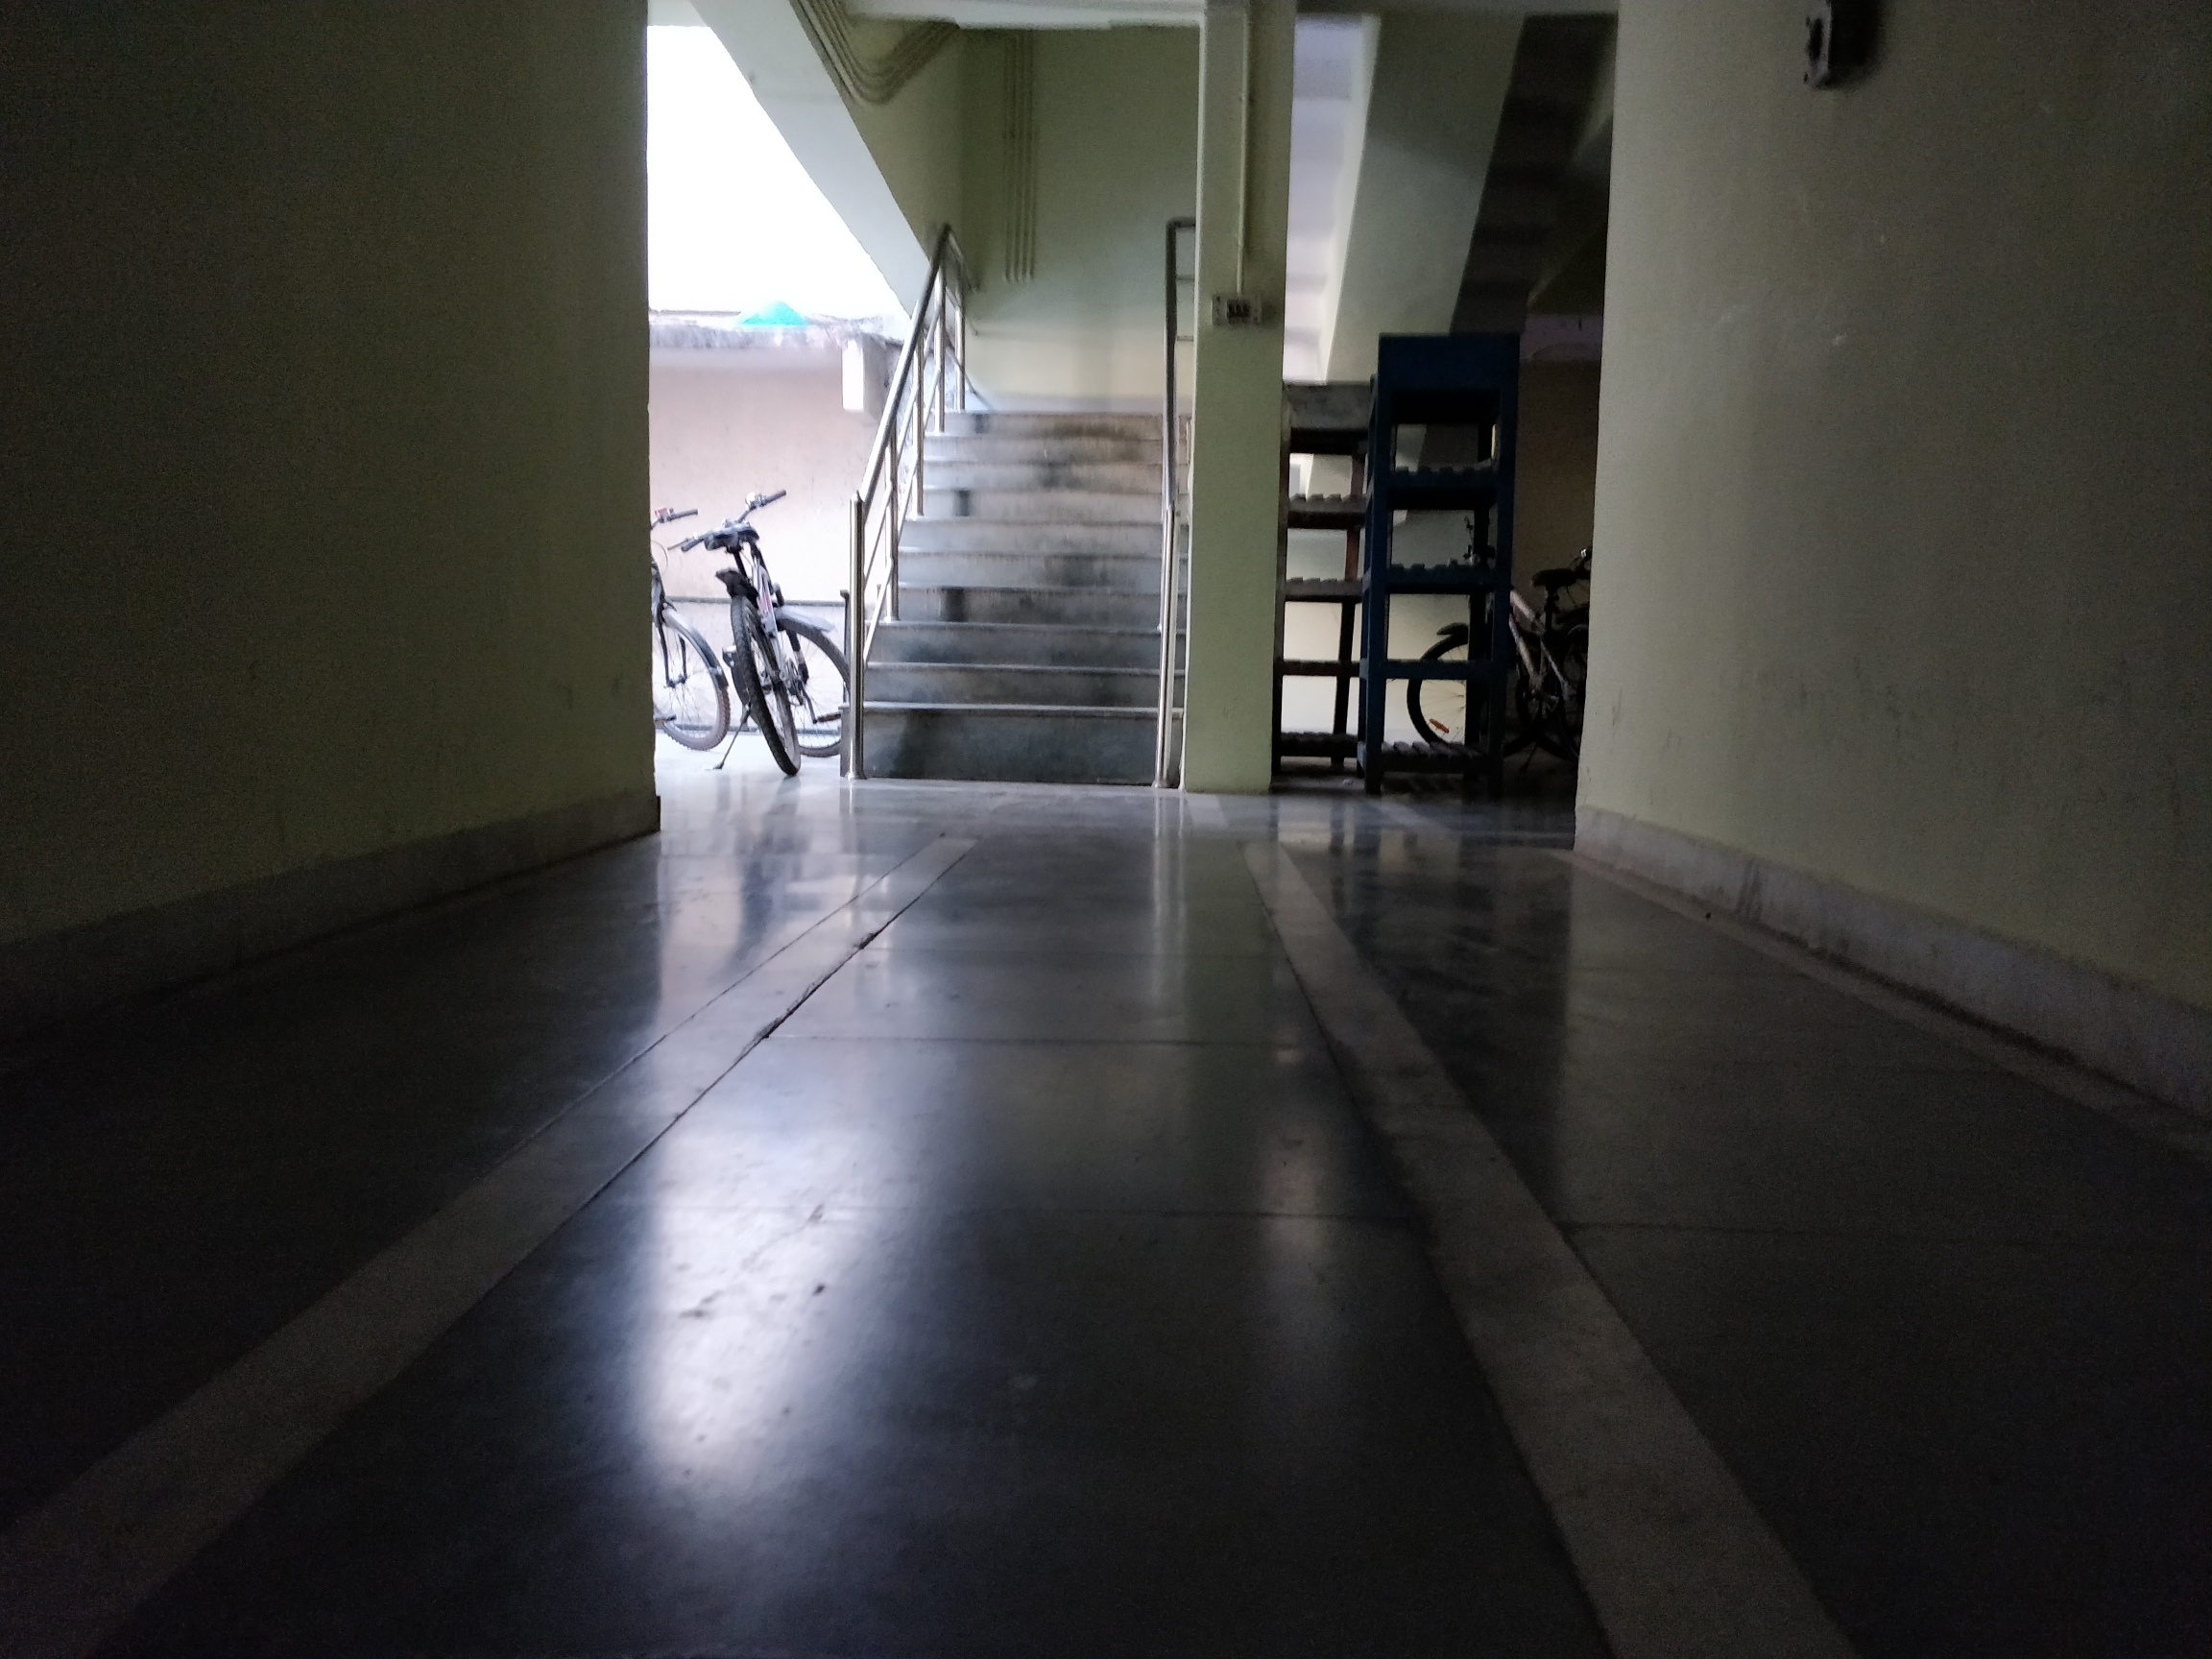stairs_up: (888, 397, 1186, 770)
